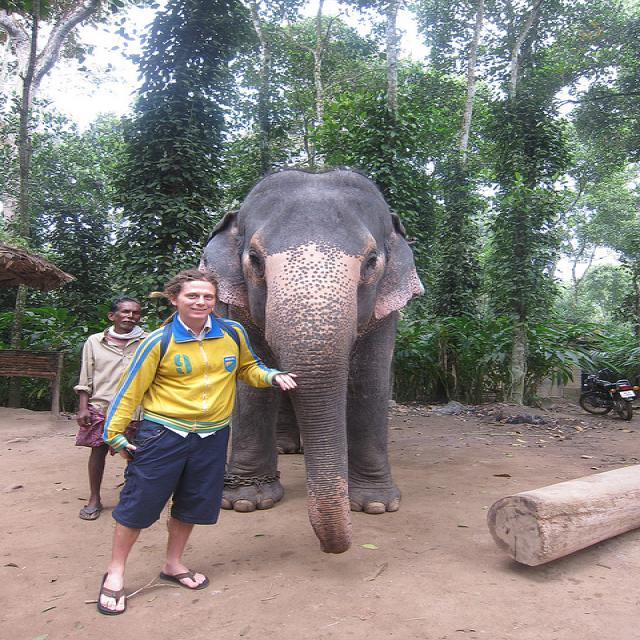motor: (580, 367, 639, 419)
